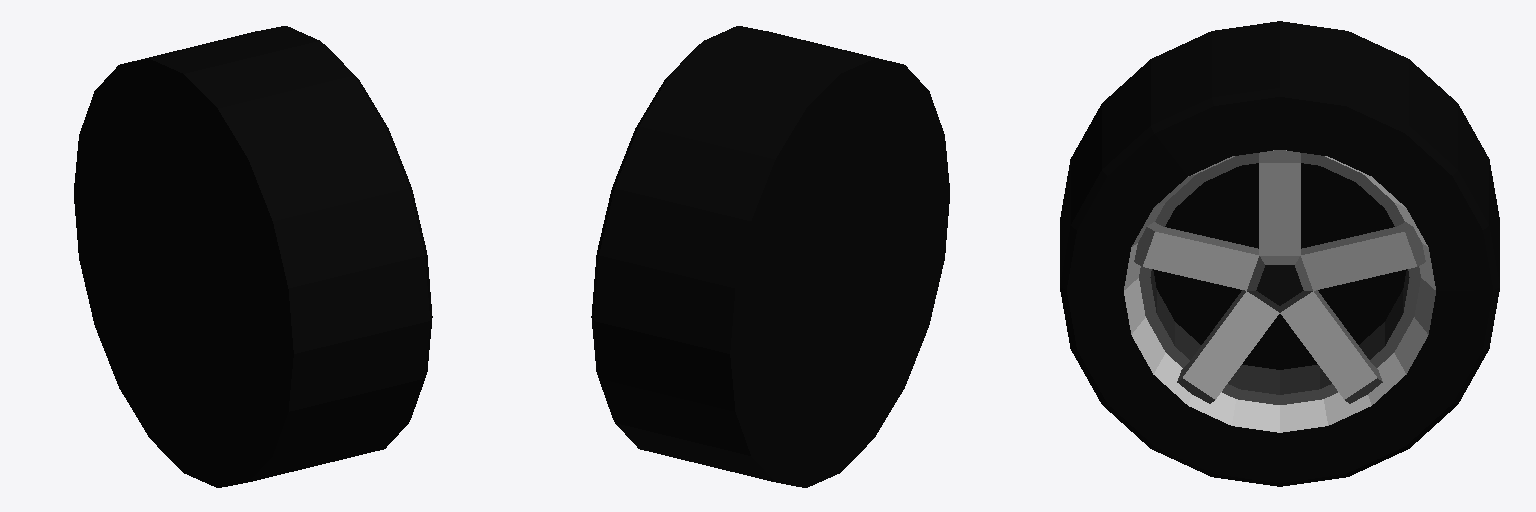
3 renders of one model, left to right at view 1: azimuth 30°, elevation 25°; view 2: azimuth 150°, elevation 25°; view 3: azimuth 270°, elevation 25°, orthographic.
Visible parts, largest first — view 1: FrontLeftWheel; view 2: FrontLeftWheel; view 3: FrontLeftWheel.
Boxes of the visible parts, x1,y1,x2,y2 form: FrontLeftWheel: [74, 26, 432, 487]; FrontLeftWheel: [591, 26, 949, 487]; FrontLeftWheel: [1060, 21, 1499, 486].
Size of the model in its own units: 0.2683 by 0.7082 by 0.7082.
Materials: 1 (1 with a texture image).